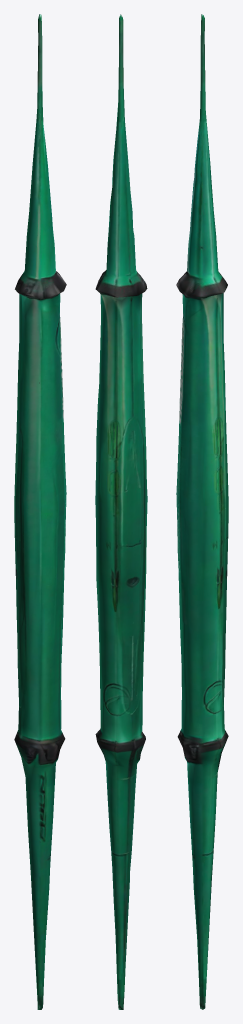
Rendered from a_plasma_burst_green_0408235539_texture.glb.
3 renders of one model, left to right at view 1: azimuth 90°, elevation 25°; view 2: azimuth 210°, elevation 25°; view 3: azimuth 270°, elevation 25°, orthographic.
Parts seen in each view (by area): view 1: Mesh1; view 2: Mesh1; view 3: Mesh1.
Boxes of the visible parts, x1=… form: Mesh1: x1=14, y1=14, x2=66, y2=1009; Mesh1: x1=95, y1=14, x2=147, y2=1009; Mesh1: x1=176, y1=14, x2=228, y2=1009.
Size of the model in its own units: 0.0962 by 2 by 0.0958.
Materials: 1 (1 with a texture image).
